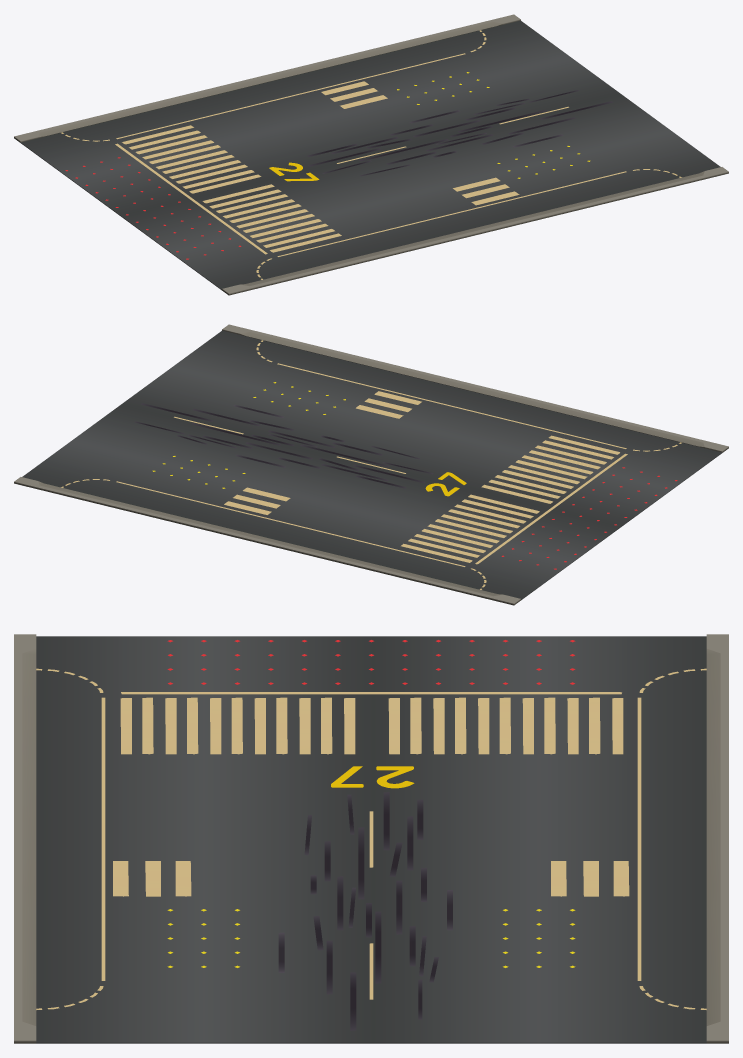
The model's file is Runway_1B.fbx.
3 views of the same model, one above another, from view 1: azimuth 30°, elevation 25°; view 2: azimuth 150°, elevation 25°; view 3: azimuth 270°, elevation 25° (orthographic). The views are drawn at different scales.
Visible parts, largest first — view 1: Runway_1B; view 2: Runway_1B; view 3: Runway_1B.
Boxes of the visible parts, bbox=[...] form: Runway_1B: bbox=[14, 14, 728, 295]; Runway_1B: bbox=[14, 324, 728, 605]; Runway_1B: bbox=[14, 634, 728, 1043].
Bounding box in the file's own units: 8600 × 30 × 6400.
